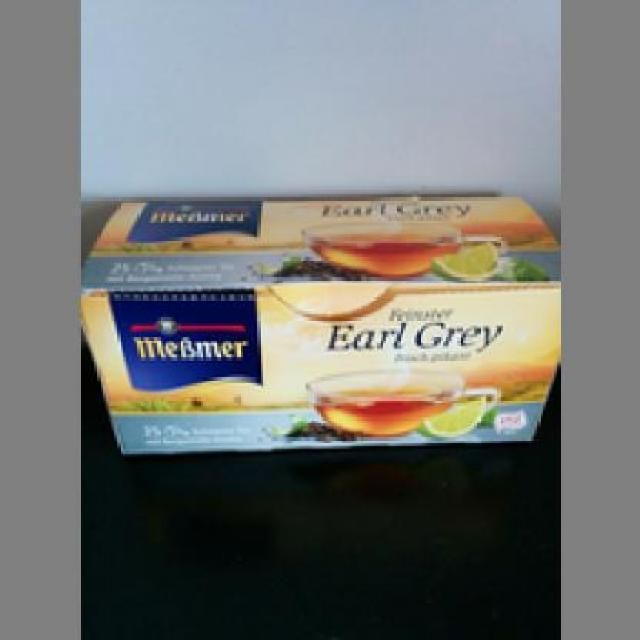Tea: (77, 195, 554, 454)
